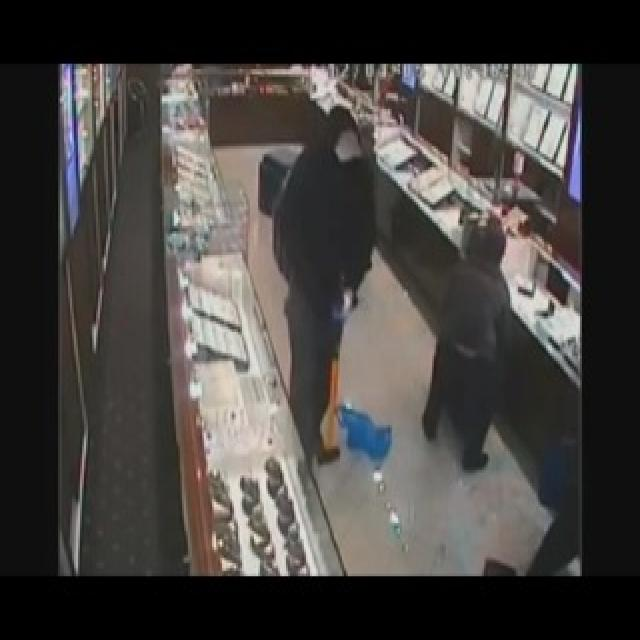thief: (276, 105, 380, 464), (420, 221, 522, 465)
